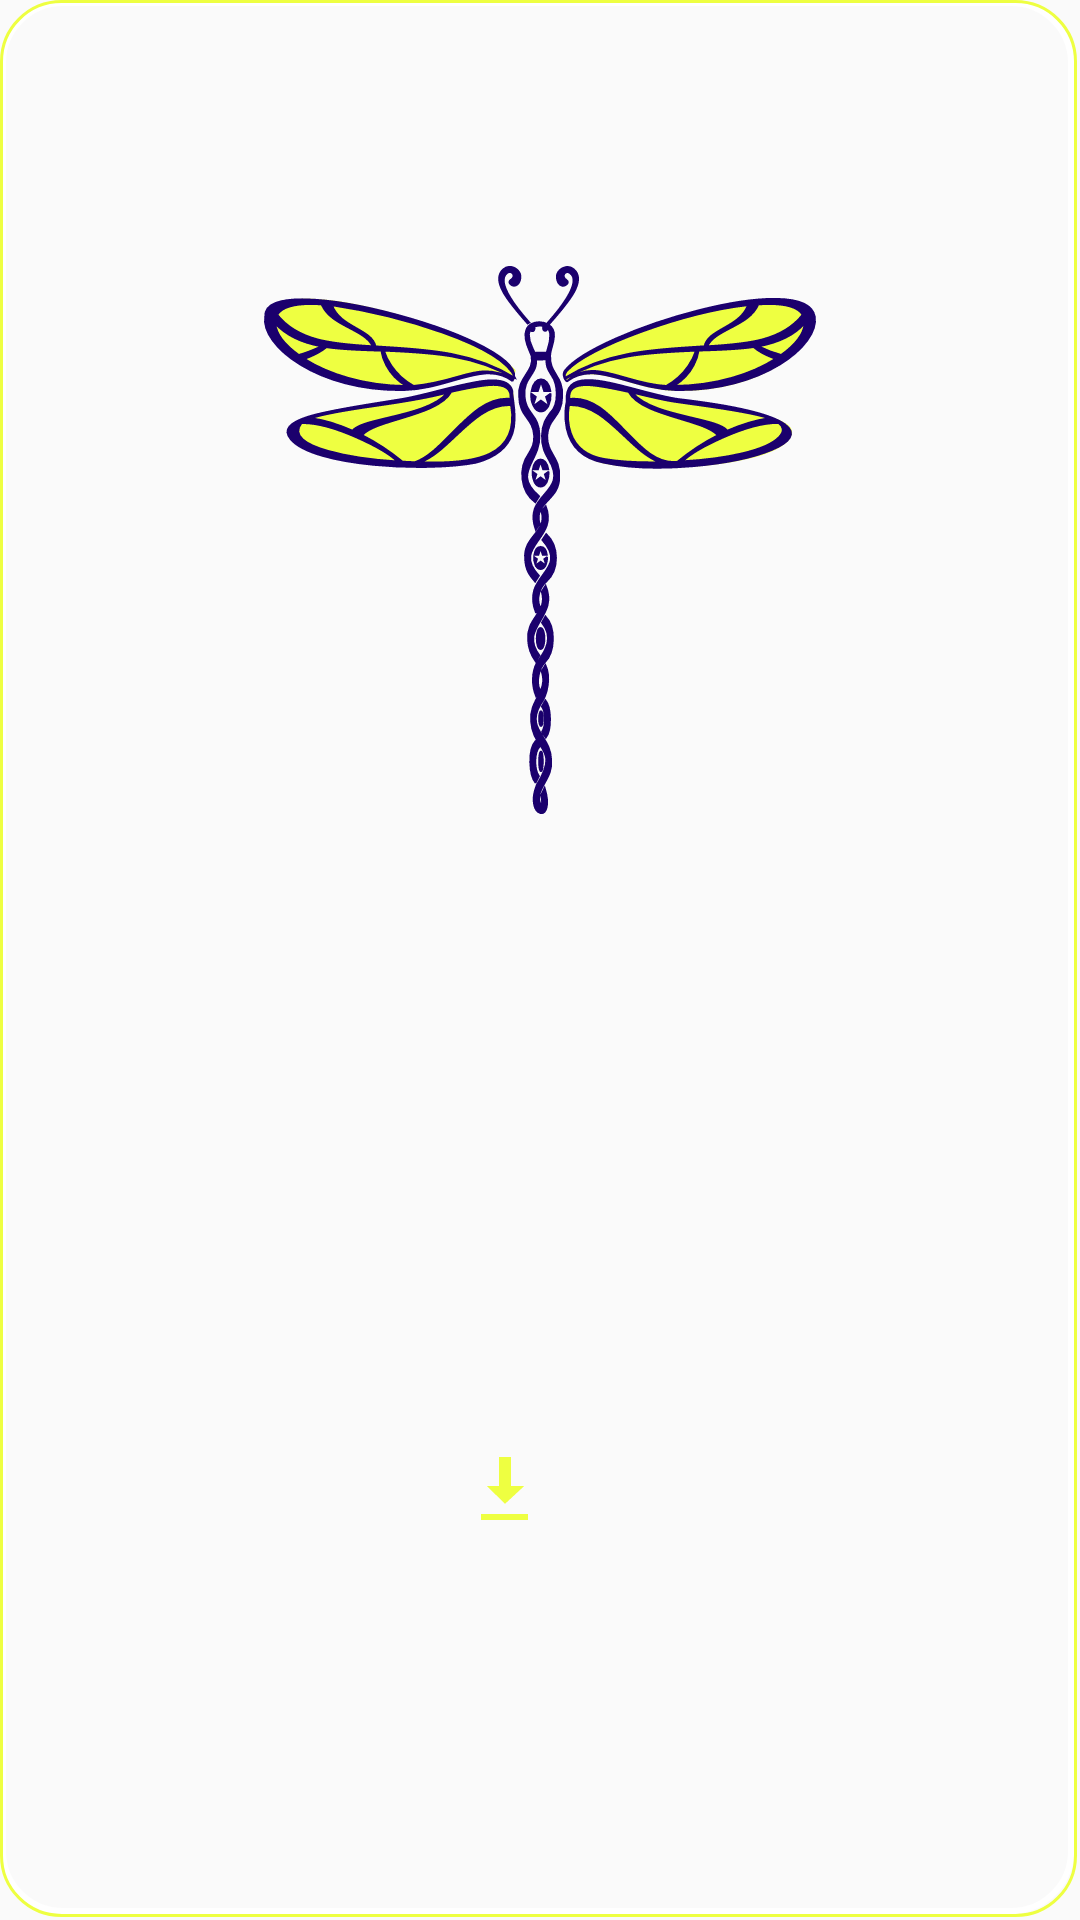

Locate icon controls on the screen. Image size 1080*1920, boxes as (x1, y1, x2, y2).
Download meditation: (481, 1457, 528, 1520)
